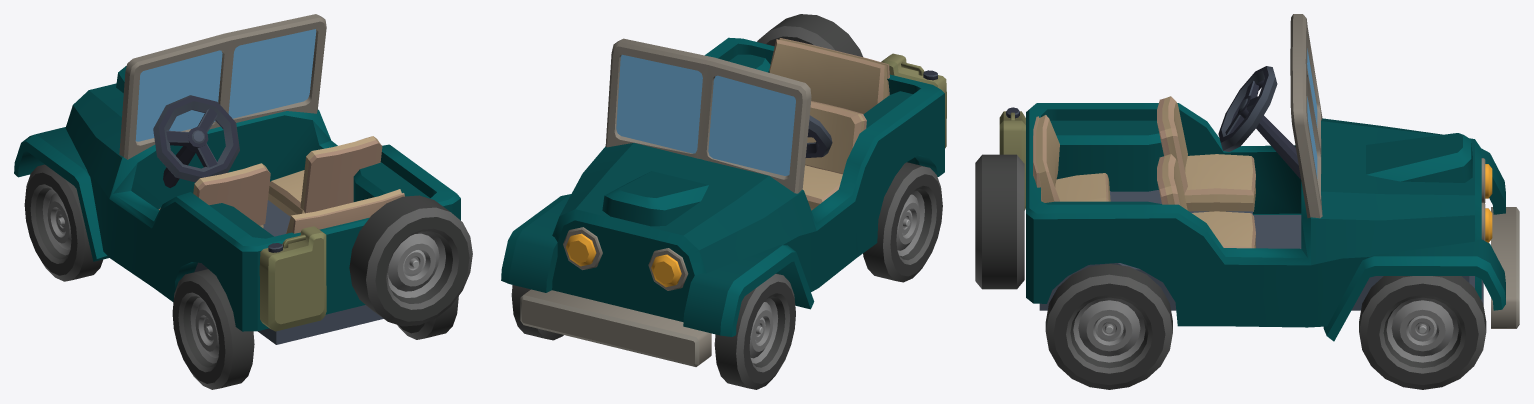
File: Jeep_C.fbx
3 views of the same model, side by side, from view 1: azimuth 30°, elevation 25°; view 2: azimuth 150°, elevation 25°; view 3: azimuth 270°, elevation 25° (orthographic). The views are drawn at different scales.
Visible parts, largest first — view 1: Jeep_C, Jeep_C_BL, Jeep_C_FL, Jeep_C_BR; view 2: Jeep_C, Jeep_C_BL, Jeep_C_FL, Jeep_C_FR; view 3: Jeep_C, Jeep_C_BR, Jeep_C_FR.
Boxes of the visible parts, x1=… form: Jeep_C: x1=14, y1=14, x2=472, y2=344; Jeep_C_BL: x1=172, y1=269, x2=254, y2=389; Jeep_C_FL: x1=24, y1=164, x2=102, y2=281; Jeep_C_BR: x1=397, y1=296, x2=458, y2=339; Jeep_C: x1=501, y1=14, x2=946, y2=366; Jeep_C_BL: x1=863, y1=162, x2=942, y2=282; Jeep_C_FL: x1=714, y1=273, x2=795, y2=389; Jeep_C_FR: x1=511, y1=285, x2=563, y2=340; Jeep_C: x1=975, y1=14, x2=1519, y2=341; Jeep_C_BR: x1=1045, y1=263, x2=1172, y2=389; Jeep_C_FR: x1=1359, y1=276, x2=1486, y2=389.
Bounding box in the file's own units: 172 × 182 × 328.
